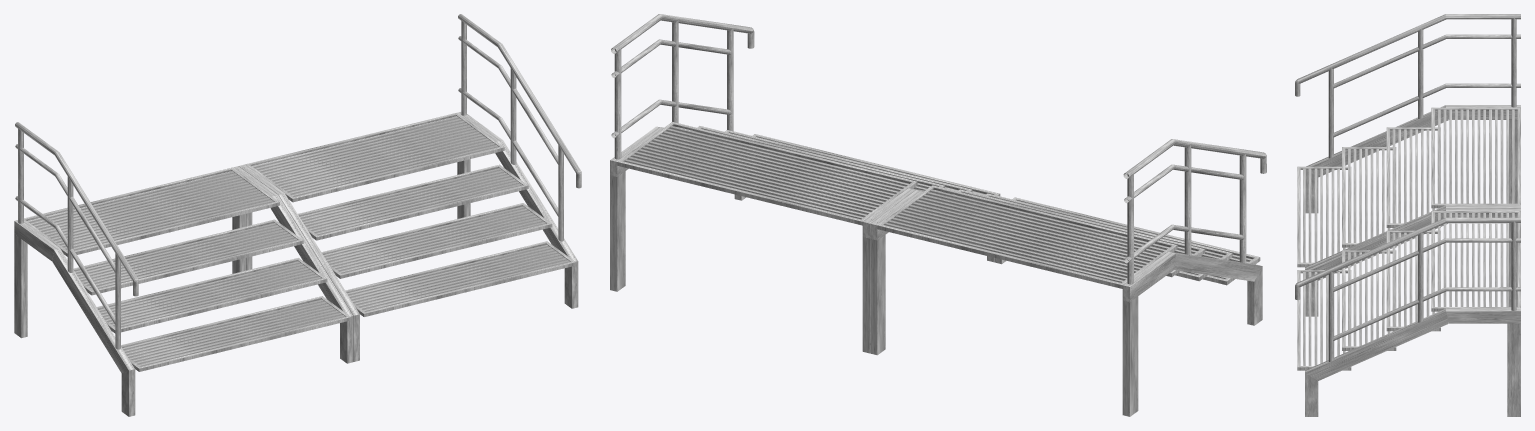
The model's file is Stairs.fbx.
The picture shows the model from 3 angles, left to right: view 1: azimuth 30°, elevation 25°; view 2: azimuth 150°, elevation 25°; view 3: azimuth 270°, elevation 25°; orthographic projection. The views are drawn at different scales.
Parts seen in each view (by area): view 1: Stair; view 2: Stair; view 3: Stair.
Boxes of the visible parts, x1,y1,x2,y2 form: Stair: (14, 14, 581, 416); Stair: (610, 14, 1266, 416); Stair: (1295, 14, 1520, 416).
Bounding box in the file's own units: 95.74 × 42.79 × 44.28.
